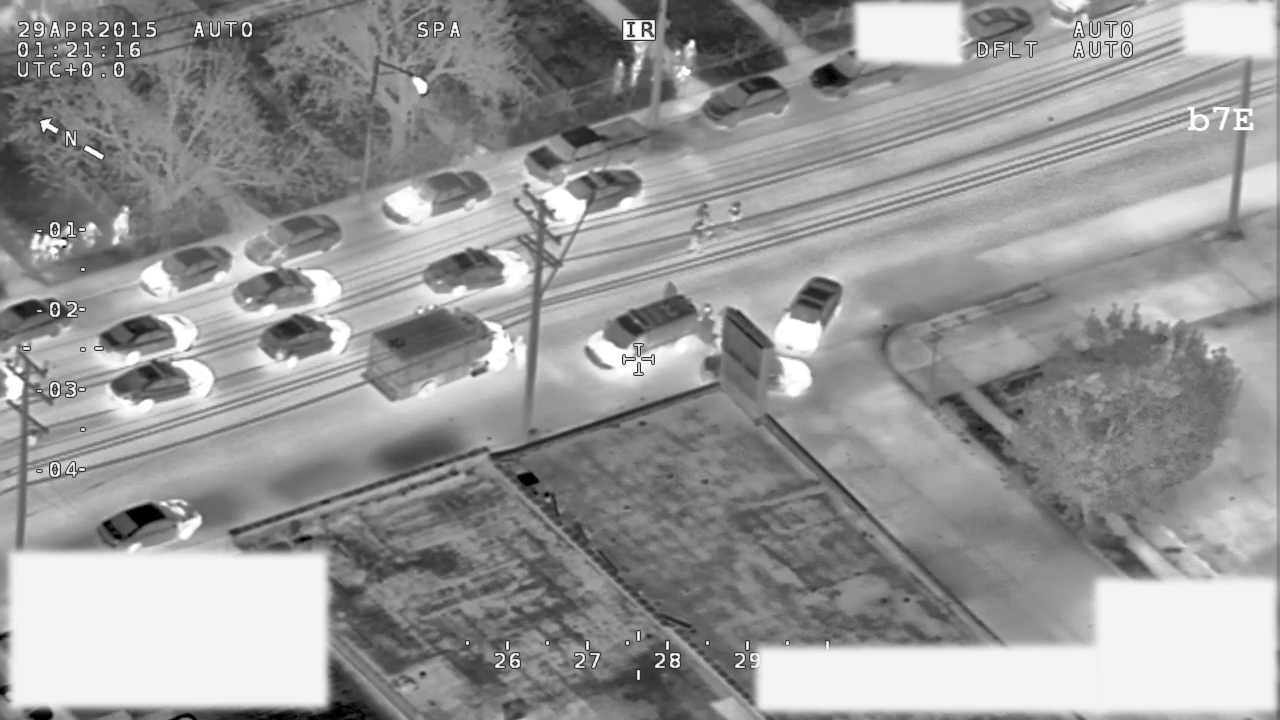vehicle: (363, 304, 516, 406), (582, 277, 717, 376), (521, 114, 655, 189), (378, 168, 496, 227), (239, 207, 345, 269), (91, 496, 204, 552), (105, 355, 216, 412), (543, 164, 646, 225), (256, 308, 354, 372), (91, 309, 204, 364), (228, 264, 343, 316), (422, 244, 532, 298), (697, 351, 815, 401), (805, 46, 915, 99), (137, 243, 233, 303), (773, 276, 846, 354), (699, 73, 793, 130), (963, 1, 1039, 56), (1, 294, 74, 343)
